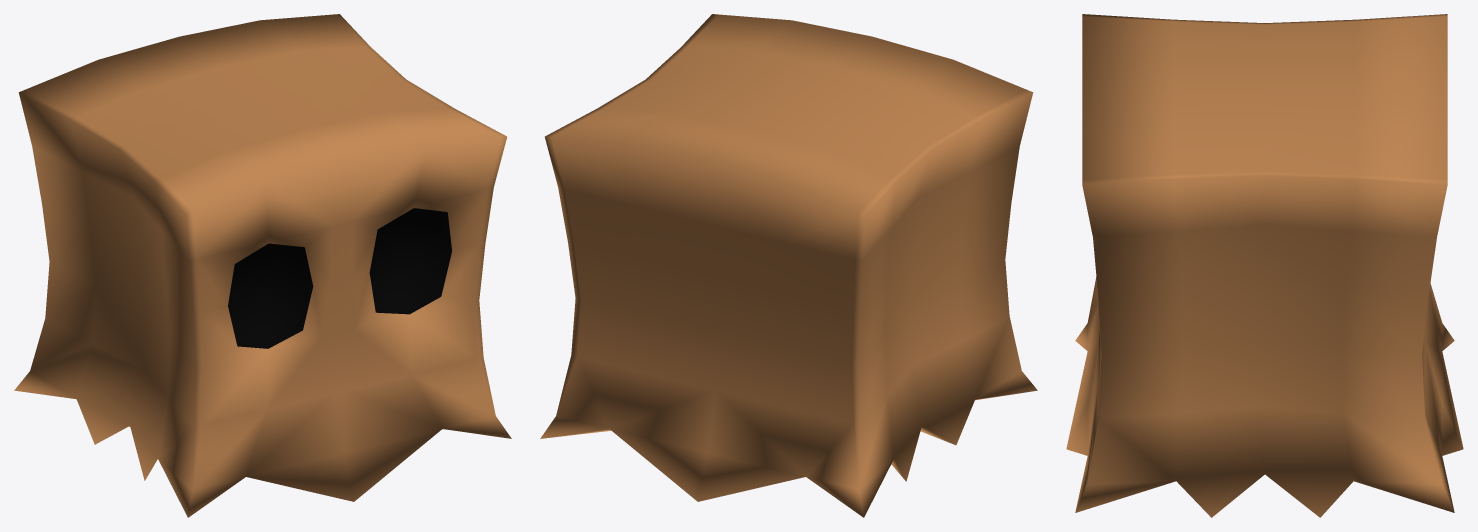
File: BagHag.fbx
3 renders of one model, left to right at view 1: azimuth 30°, elevation 25°; view 2: azimuth 150°, elevation 25°; view 3: azimuth 270°, elevation 25°, orthographic. The views are drawn at different scales.
Parts seen in each view (by area): view 1: BagHat; view 2: BagHat; view 3: BagHat.
Part boxes in pixels (left/top/right/bottom): BagHat: left=14, top=14, right=511, bottom=517; BagHat: left=540, top=14, right=1037, bottom=517; BagHat: left=1066, top=14, right=1463, bottom=517.
Bounding box in the file's own units: 67.79 × 67.46 × 66.04.
